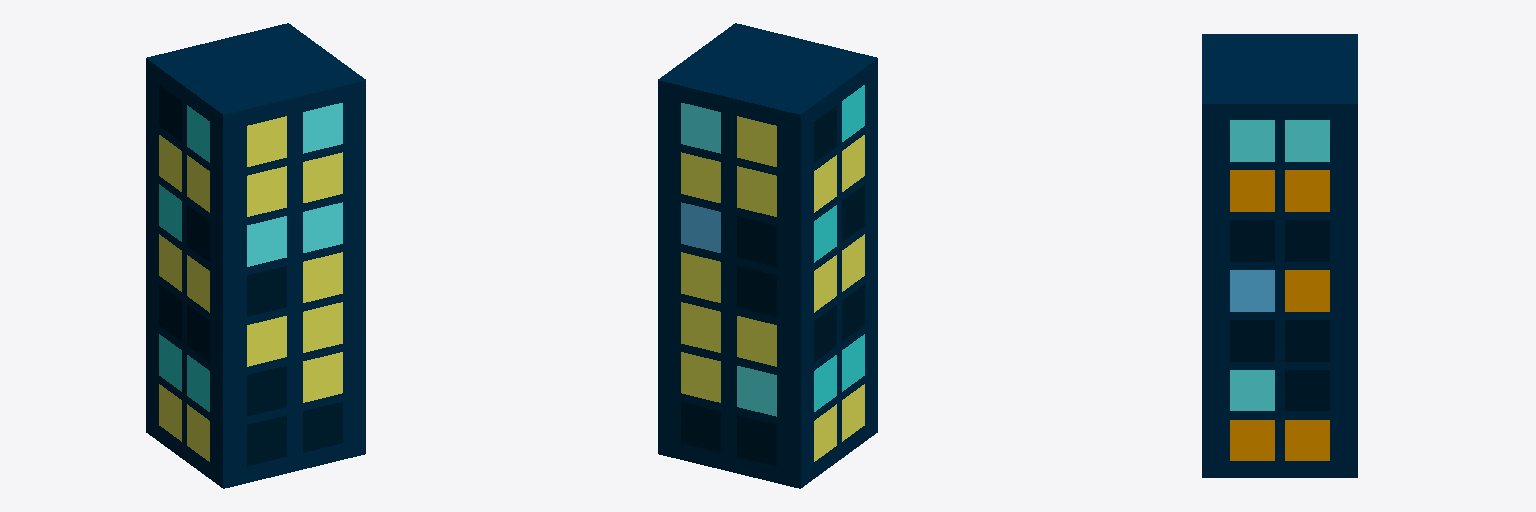
The picture shows the model from 3 angles: view 1: azimuth 30°, elevation 25°; view 2: azimuth 150°, elevation 25°; view 3: azimuth 270°, elevation 25°; orthographic projection.
Size of the model in its own units: 18 by 45 by 17.
1 materials, 1 textured.